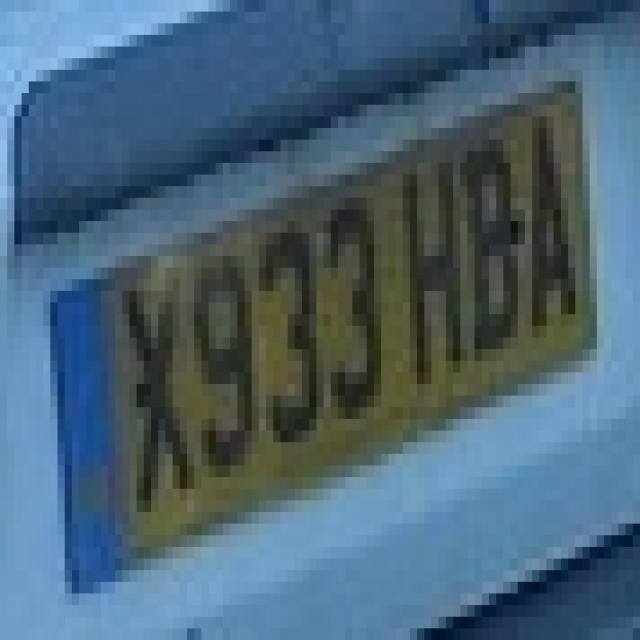licenseplate: (36, 51, 622, 617)
